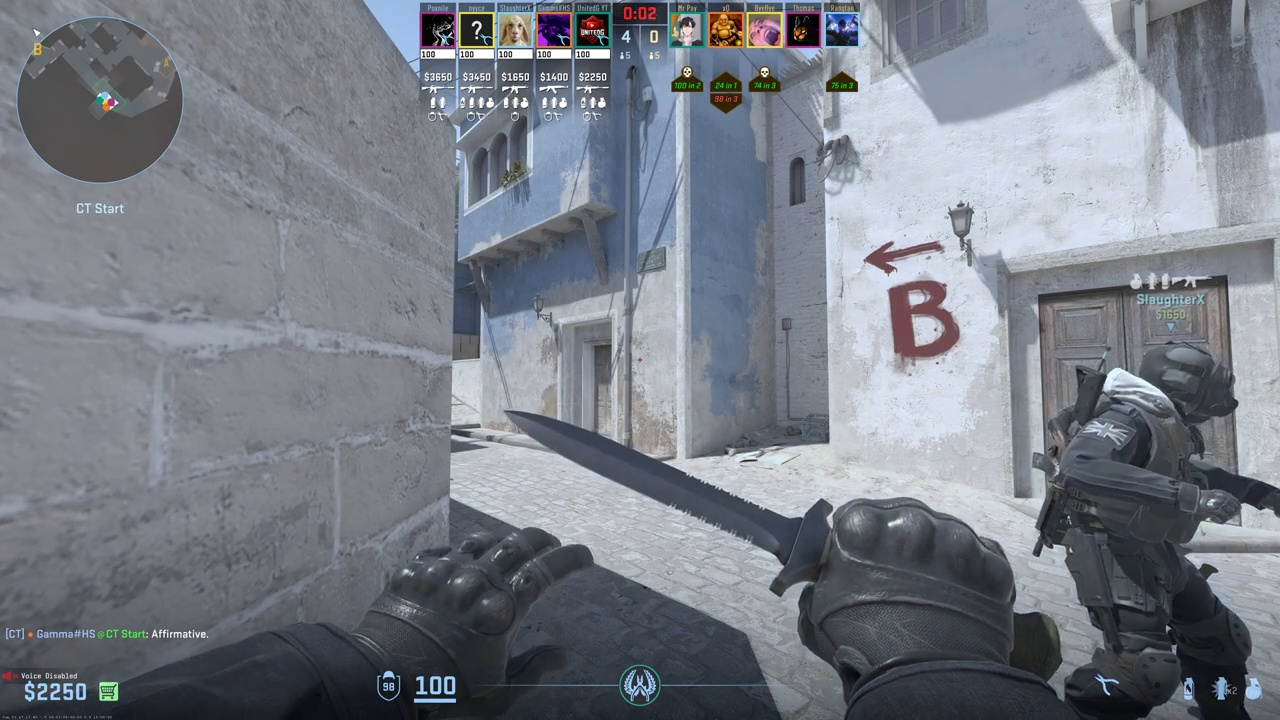CT: (1063, 341, 1251, 716)
